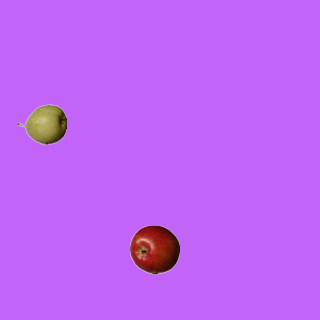Apple Braeburn: (129, 224, 179, 274)
Pear: (16, 99, 66, 149)
